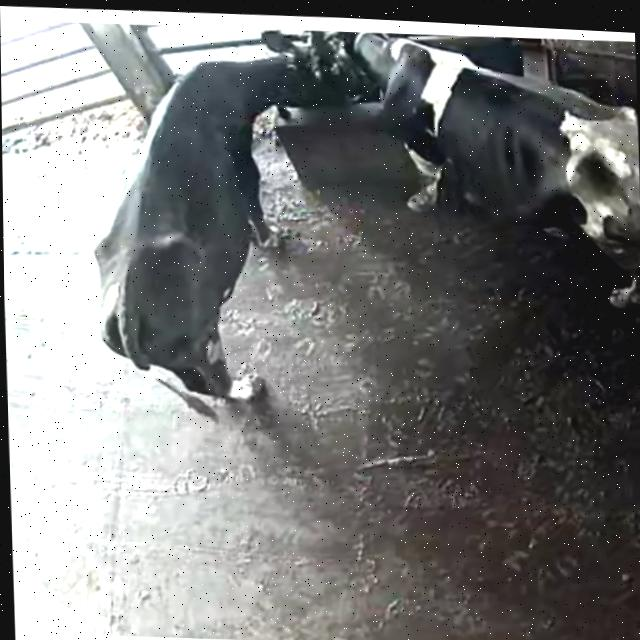drink: (178, 23, 351, 138), (328, 29, 446, 115)
